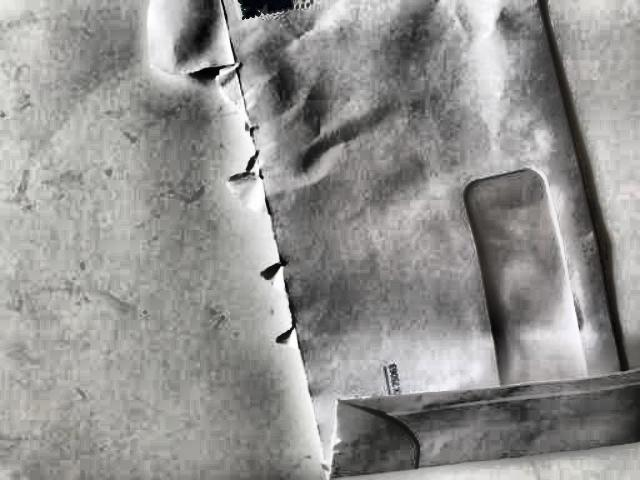Paper: (188, 0, 640, 480)
